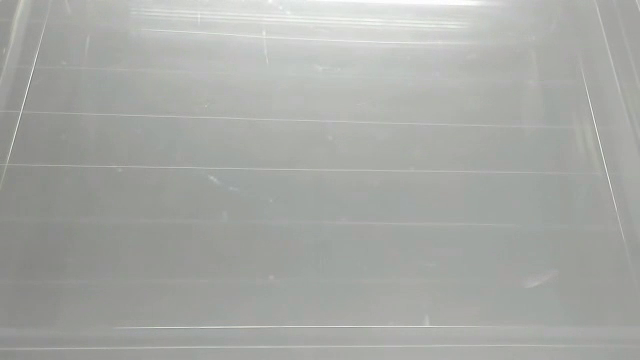alpha: (518, 266, 569, 290), (420, 310, 437, 330)
